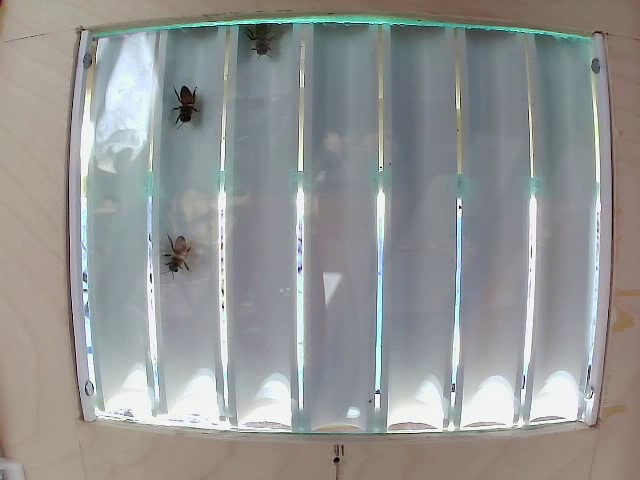bee: (156, 223, 206, 290), (173, 85, 213, 128), (242, 21, 267, 71)
